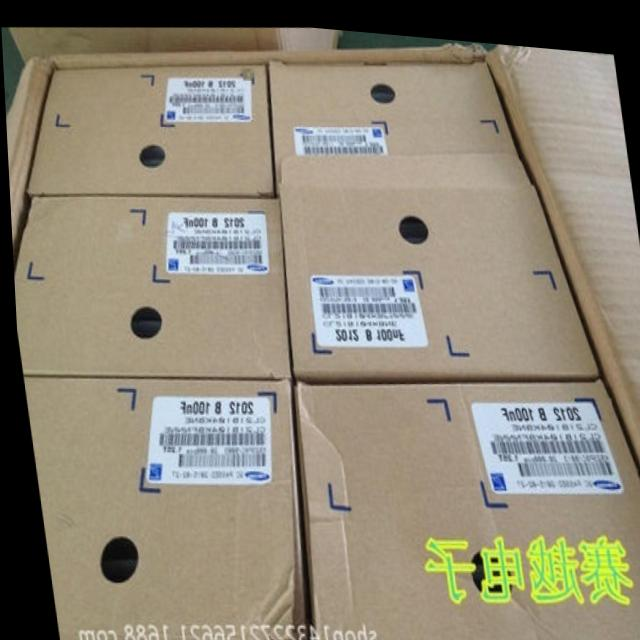box: (5, 34, 640, 640), (293, 364, 640, 640), (20, 373, 299, 640), (277, 145, 594, 373), (11, 192, 287, 373), (268, 51, 515, 188), (26, 58, 272, 193), (8, 24, 337, 59)
